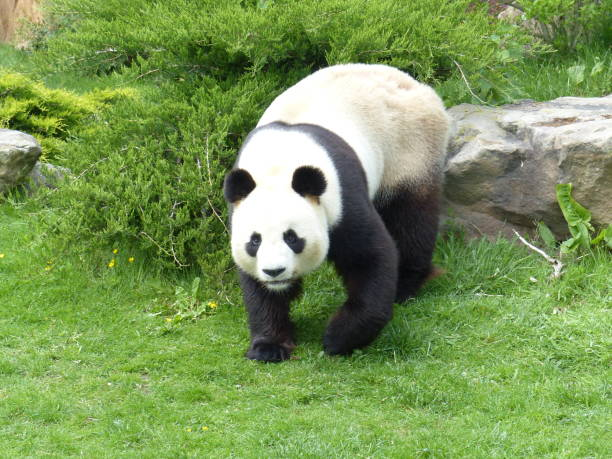panda: (183, 159, 344, 297)
